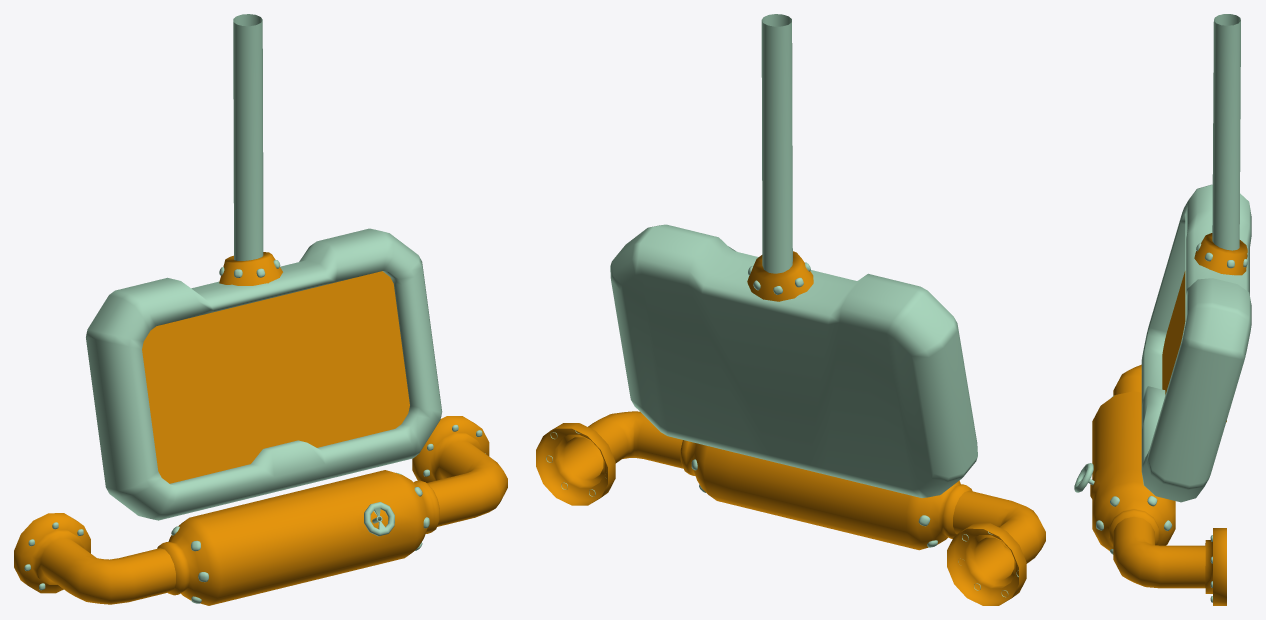
The model's file is resumScreen_0.1.fbx.
3 renders of one model, left to right at view 1: azimuth 30°, elevation 25°; view 2: azimuth 150°, elevation 25°; view 3: azimuth 270°, elevation 25°, orthographic. The views are drawn at different scales.
Visible parts, largest first — view 1: resumScreen_Low; view 2: resumScreen_Low; view 3: resumScreen_Low.
Boxes of the visible parts, x1,y1,x2,y2 form: resumScreen_Low: (14,14,507,605); resumScreen_Low: (536,14,1045,605); resumScreen_Low: (1074,14,1251,605).
Size of the model in its own units: 4.91 by 5.24 by 1.7.
